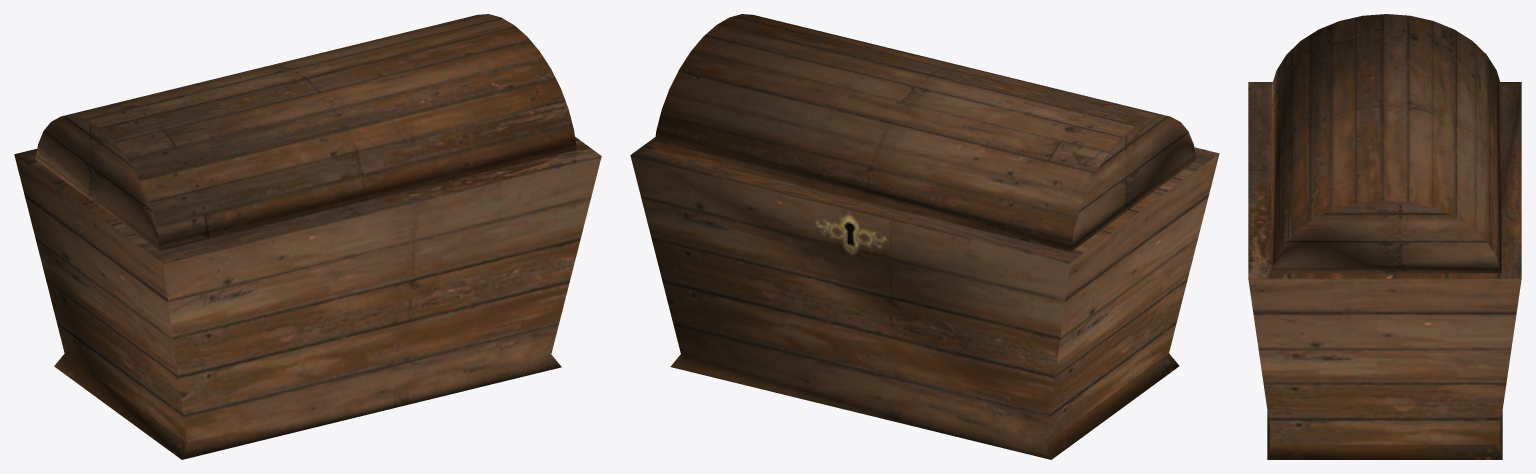
The model's file is chest.fbx.
3 renders of one model, left to right at view 1: azimuth 30°, elevation 25°; view 2: azimuth 150°, elevation 25°; view 3: azimuth 270°, elevation 25°, orthographic. The views are drawn at different scales.
Parts seen in each view (by area): view 1: chest_box, chest_cover; view 2: chest_box, chest_cover; view 3: chest_cover, chest_box.
Boxes of the visible parts, bbox=[...] form: chest_box: bbox=[14, 137, 601, 459]; chest_cover: bbox=[35, 14, 576, 251]; chest_box: bbox=[630, 137, 1219, 459]; chest_cover: bbox=[653, 14, 1196, 251]; chest_cover: bbox=[1271, 14, 1501, 273]; chest_box: bbox=[1248, 82, 1521, 459].
Bounding box in the file's own units: 5.22 × 3.3 × 3.06.
